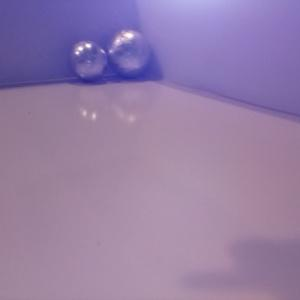alive_ball: (107, 27, 152, 78), (68, 39, 107, 82)
